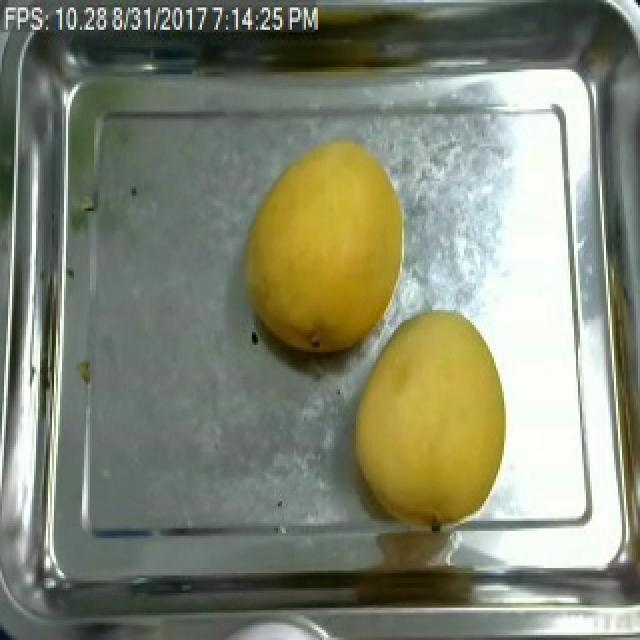fruit: (340, 303, 520, 543), (230, 132, 416, 364)
